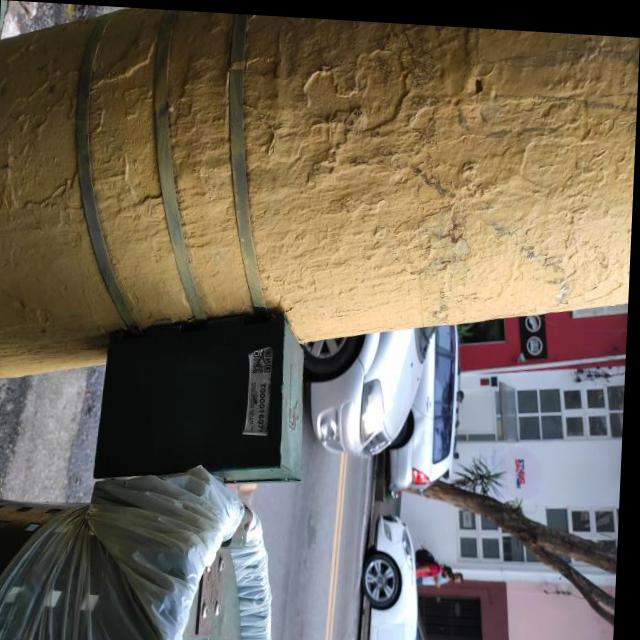qrcode: (256, 345, 275, 371)
